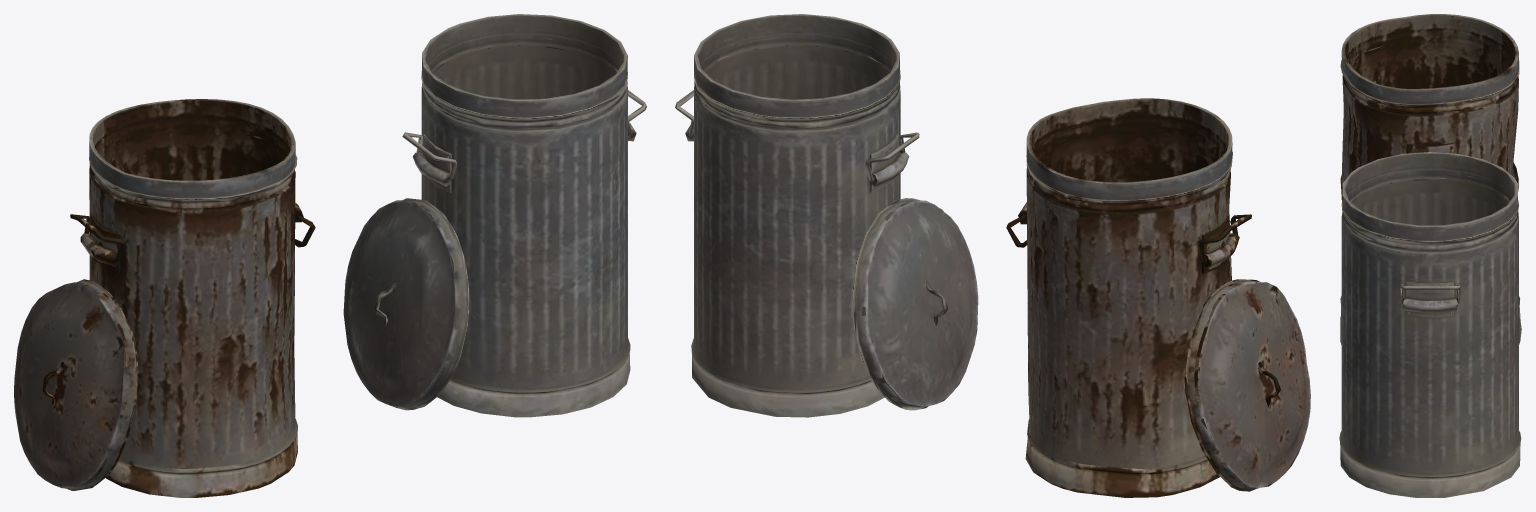
The model's file is trash-can.glb.
The picture shows the model from 3 angles, left to right: view 1: azimuth 30°, elevation 25°; view 2: azimuth 150°, elevation 25°; view 3: azimuth 270°, elevation 25°; orthographic projection. The views are drawn at different scales.
Visible parts, largest first — view 1: metal_trash_can_handle_left, metal_trash_can_rust; view 2: metal_trash_can_handle_left, metal_trash_can_rust; view 3: metal_trash_can_handle_left, metal_trash_can_rust.
Boxes of the visible parts, bbox=[...] form: metal_trash_can_handle_left: bbox=[343, 14, 646, 417]; metal_trash_can_rust: bbox=[14, 99, 315, 497]; metal_trash_can_handle_left: bbox=[675, 14, 978, 417]; metal_trash_can_rust: bbox=[1006, 98, 1310, 497]; metal_trash_can_handle_left: bbox=[1339, 152, 1521, 497]; metal_trash_can_rust: bbox=[1340, 14, 1520, 319].
Bounding box in the file's own units: 1.78 × 0.9062 × 0.5533.
Materials: 2 (2 with a texture image).
